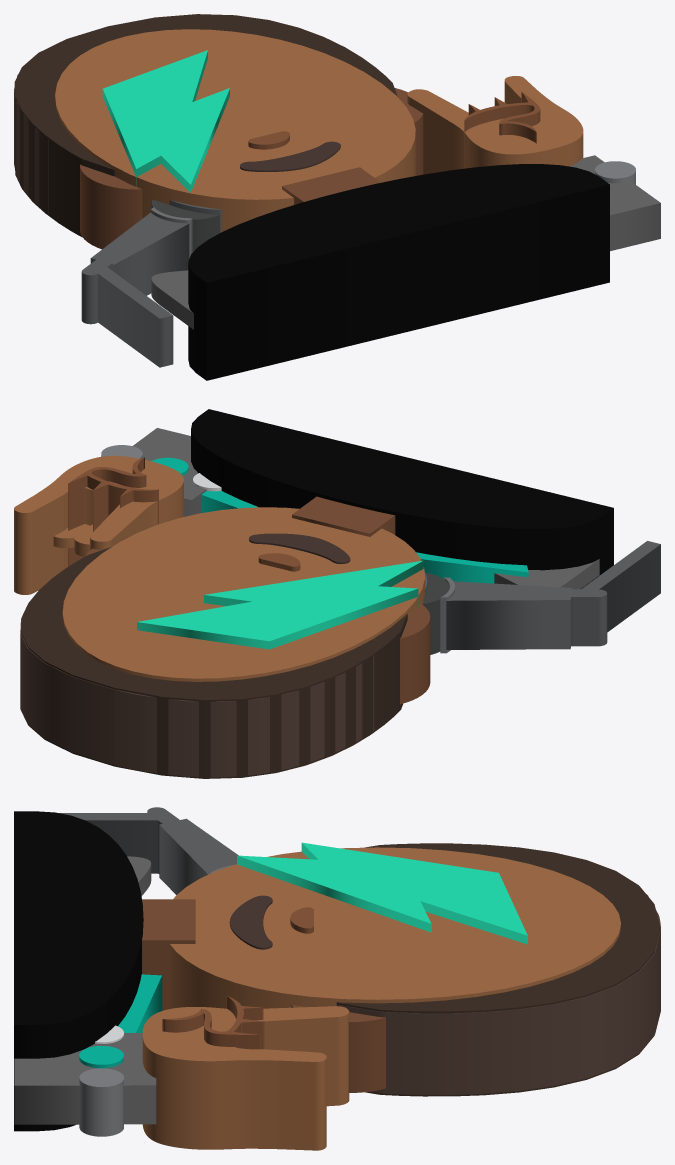
The model's file is emoji_u1f468_1f3fe_200d_1f3a4.glb.
The picture shows the model from 3 angles, top to bottom: view 1: azimuth 30°, elevation 25°; view 2: azimuth 150°, elevation 25°; view 3: azimuth 270°, elevation 25°; orthographic projection. The views are drawn at different scales.
Visible parts, largest first — view 1: emoji_u1f468_1f3fe_200d_1f3a4; view 2: emoji_u1f468_1f3fe_200d_1f3a4; view 3: emoji_u1f468_1f3fe_200d_1f3a4.
Part boxes in pixels (x1,y1,x2,y2): emoji_u1f468_1f3fe_200d_1f3a4: [14, 14, 660, 380]; emoji_u1f468_1f3fe_200d_1f3a4: [14, 409, 660, 778]; emoji_u1f468_1f3fe_200d_1f3a4: [14, 807, 660, 1150].
Size of the model in its own units: 0.0337 by 0.0064 by 0.0331.
